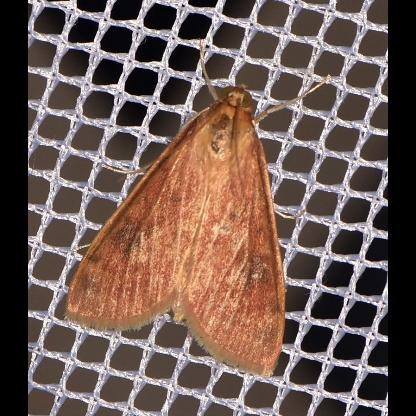Asian Corn Borer Moth: (61, 37, 335, 382)
